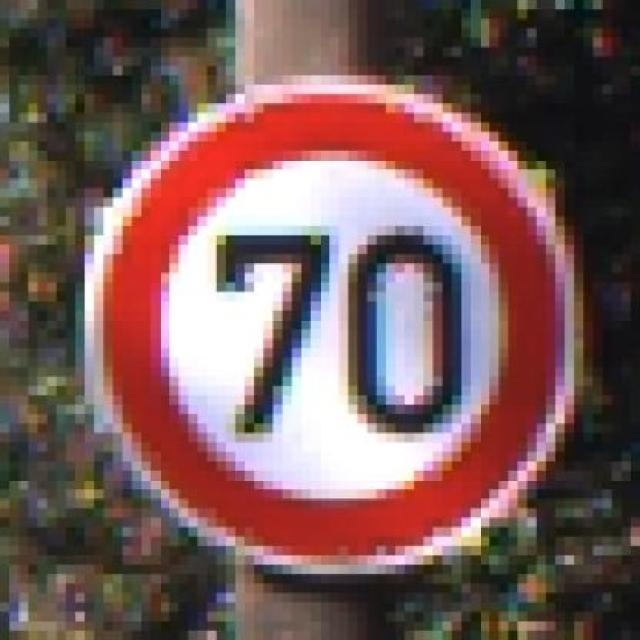forb_speed_over_70: (93, 89, 570, 572)
